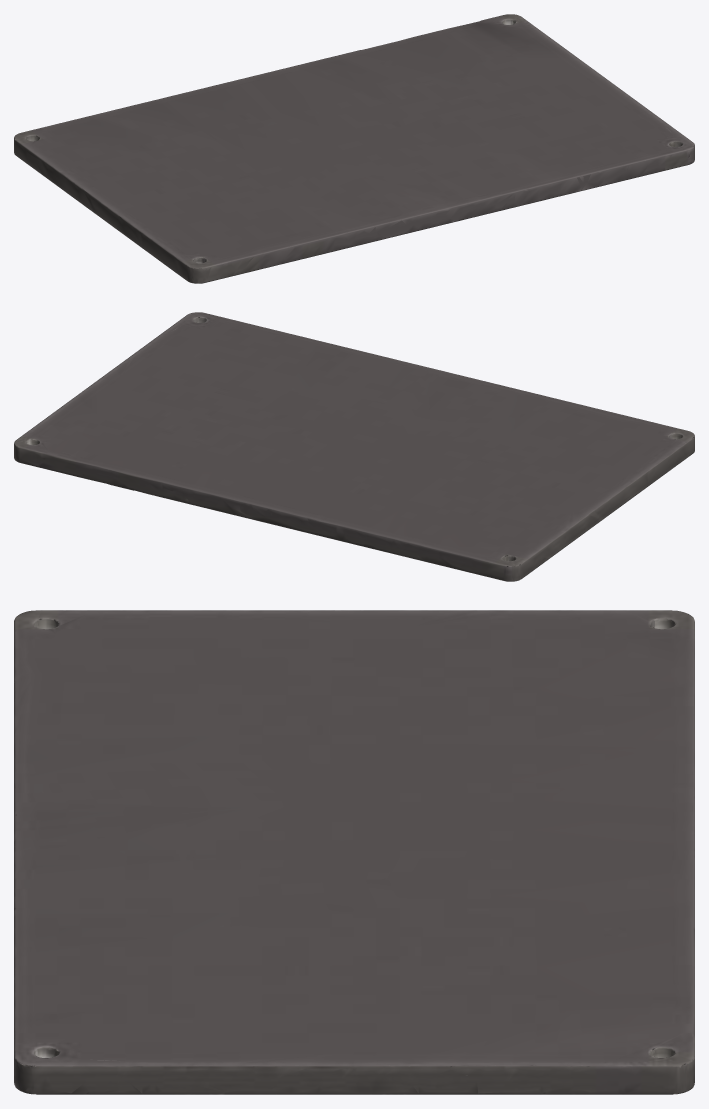
File: piece_panel_smooth.glb
3 views of the same model, one above another, from view 1: azimuth 30°, elevation 25°; view 2: azimuth 150°, elevation 25°; view 3: azimuth 270°, elevation 25° (orthographic). The views are drawn at different scales.
Parts seen in each view (by area): view 1: trait_panel_smooth; view 2: trait_panel_smooth; view 3: trait_panel_smooth.
Part boxes in pixels (x1,y1,x2,y2): trait_panel_smooth: (14, 14, 694, 283); trait_panel_smooth: (14, 312, 694, 581); trait_panel_smooth: (14, 610, 694, 1094).
Bounding box in the file's own units: 0.2868 × 0.00859 × 0.1809.
Materials: 1 (1 with a texture image).
